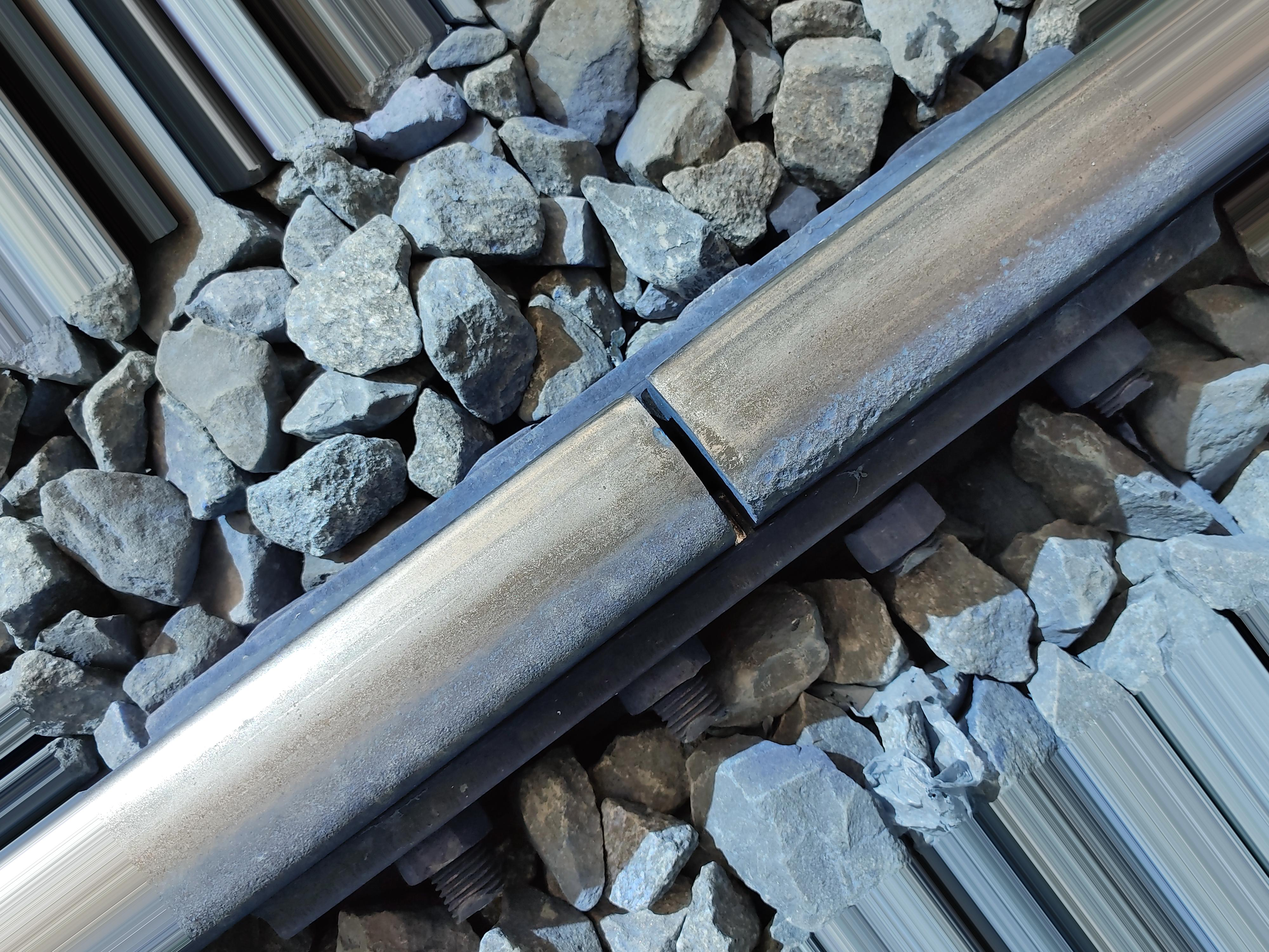tracks_fault: (566, 326, 858, 600)
